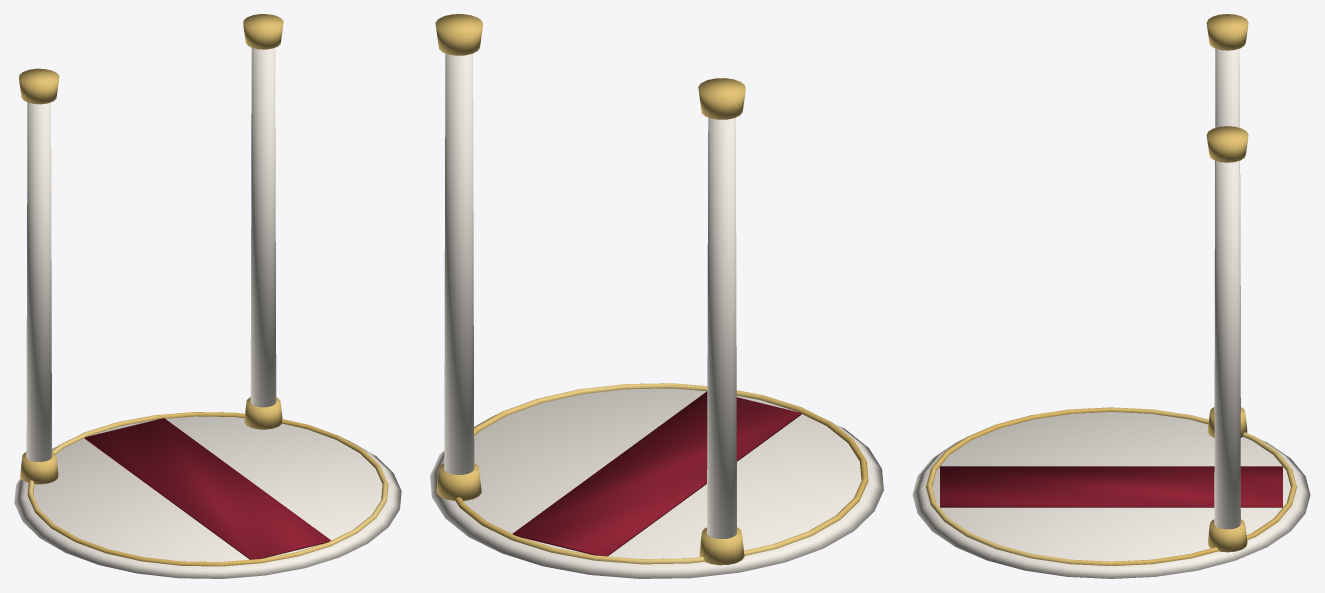
The model's file is rofan-throne-dais.glb.
The picture shows the model from 3 angles, left to right: view 1: azimuth 30°, elevation 25°; view 2: azimuth 150°, elevation 25°; view 3: azimuth 270°, elevation 25°; orthographic projection. The views are drawn at different scales.
Visible parts, largest first — view 1: TS_StageProp_rofan-throne-dais; view 2: TS_StageProp_rofan-throne-dais; view 3: TS_StageProp_rofan-throne-dais.
Part boxes in pixels (box(x1,y1,x2,y2)): TS_StageProp_rofan-throne-dais: box(14, 14, 401, 578); TS_StageProp_rofan-throne-dais: box(430, 14, 883, 578); TS_StageProp_rofan-throne-dais: box(912, 14, 1310, 578).
Bounding box in the file's own units: 1.44 × 1.66 × 1.44.
Materials: 1 (1 with a texture image).
